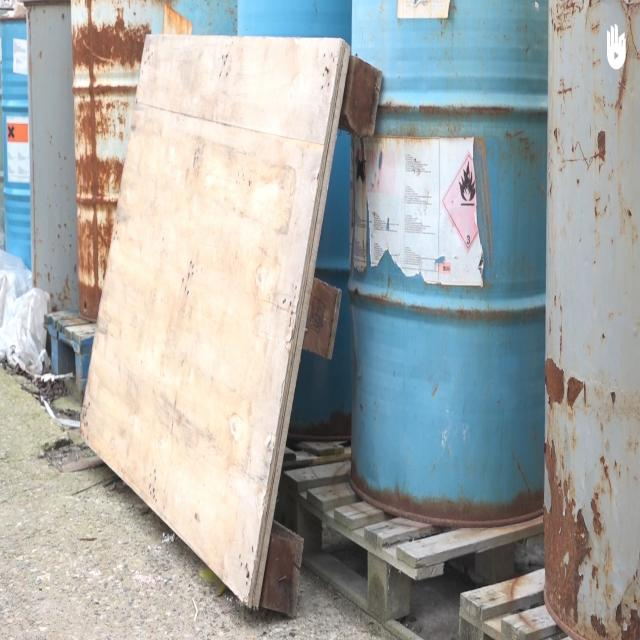Palette: (78, 34, 388, 613), (282, 446, 556, 631), (455, 572, 575, 640), (42, 292, 94, 391)
